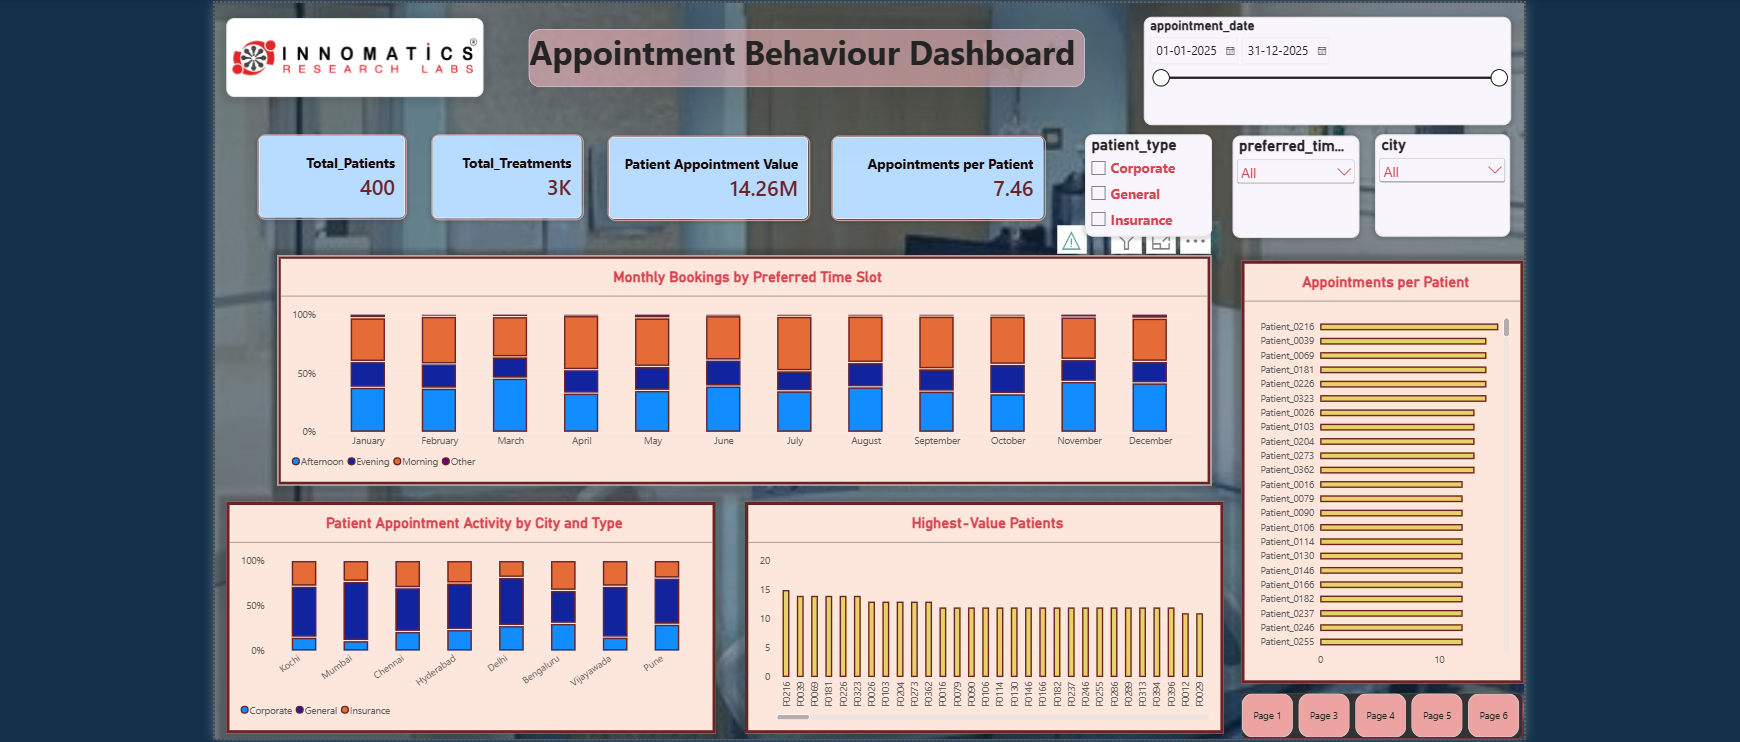

The dashboard page shown, as its layout file describes it:
{"tool":"powerbi","page":{"name":"Page 2","canvas":[1920,1080],"ordinal":1},"visuals":[{"type":"cardVisual","fields":{"Data":["treatments.Total_Patients"]},"box":[63.1,193.1,219.2,126],"z":0},{"type":"cardVisual","fields":{"Data":["treatments.Total_Treatments"]},"box":[317.3,192.6,223.8,126.6],"z":1000},{"type":"cardVisual","fields":{"Data":["appointments.Patient Appointment Value"]},"box":[576,194.1,297.3,125.9],"z":2000},{"type":"cardVisual","fields":{"Data":["appointments.Appointments per Patient"]},"box":[904.3,194.1,315,126],"z":3000},{"type":"clusteredBarChart","title":"Appointments per Patient","fields":{"Category":["patients.patient_name"],"Y":["treatments.Total_Appointments"]},"box":[1505.6,378.2,414.4,620.7],"z":4000},{"type":"clusteredColumnChart","title":"Highest-Value Patients","fields":{"Category":["patients.patient_id"],"Y":["treatments.Total_Appointments"]},"box":[778.2,731.1,702.1,340.2],"z":5000},{"type":"hundredPercentStackedColumnChart","title":"Patient Appointment Activity by City and Type","fields":{"Category":["patients.city"],"Series":["patients.patient_type"],"Y":["treatments.Total_Appointments"]},"box":[16.3,731.1,718.4,340.2],"z":6000},{"type":"hundredPercentStackedColumnChart","title":"Monthly Bookings by Preferred Time Slot","fields":{"Category":["date_table.Year-Month.Variation.Date Hierarchy.Month"],"Series":["patients.preferred_time_slot"],"Y":["treatments.Total_Appointments"]},"box":[92.3,371,1369.9,336.6],"z":7000},{"type":"slicer","fields":{"Values":["appointments.appointment_date"]},"box":[1362.7,19.9,538.8,159],"z":8000},{"type":"slicer","fields":{"Values":["patients.city"]},"box":[1702.9,191.8,198.2,150.7],"z":9000},{"type":"textbox","box":[459.7,38,816.2,85.1],"z":10000},{"type":"slicer","fields":{"Values":["patients.patient_type"]},"box":[1275.8,191.8,186,150],"z":11000},{"type":"slicer","fields":{"Values":["patients.preferred_time_slot"]},"box":[1493,193.6,186,150],"z":12000},{"type":"image","box":[16.5,22.7,377.8,115.6],"z":13000},{"type":"pageNavigator","box":[1505.6,1013.4,412.6,67],"z":14000}]}

Visuals, with their boxes in screenshot pixels (x1, y1, x2, y2):
cardVisual - treatments.Total_Patients: (256,131,405,217)
cardVisual - treatments.Total_Treatments: (428,131,580,217)
cardVisual - appointments.Patient Appointment Value: (604,132,806,217)
cardVisual - appointments.Appointments per Patient: (827,132,1040,217)
"Appointments per Patient" clusteredBarChart: (1235,257,1516,678)
"Highest-Value Patients" clusteredColumnChart: (741,496,1217,727)
"Patient Appointment Activity by City and Type" hundredPercentStackedColumnChart: (224,496,712,727)
"Monthly Bookings by Preferred Time Slot" hundredPercentStackedColumnChart: (276,252,1205,480)
slicer - appointments.appointment_date: (1138,14,1503,121)
slicer - patients.city: (1369,130,1503,232)
textbox: (525,26,1079,84)
slicer - patients.patient_type: (1079,130,1205,232)
slicer - patients.preferred_time_slot: (1226,131,1352,233)
image: (224,15,481,94)
pageNavigator: (1235,688,1515,733)
